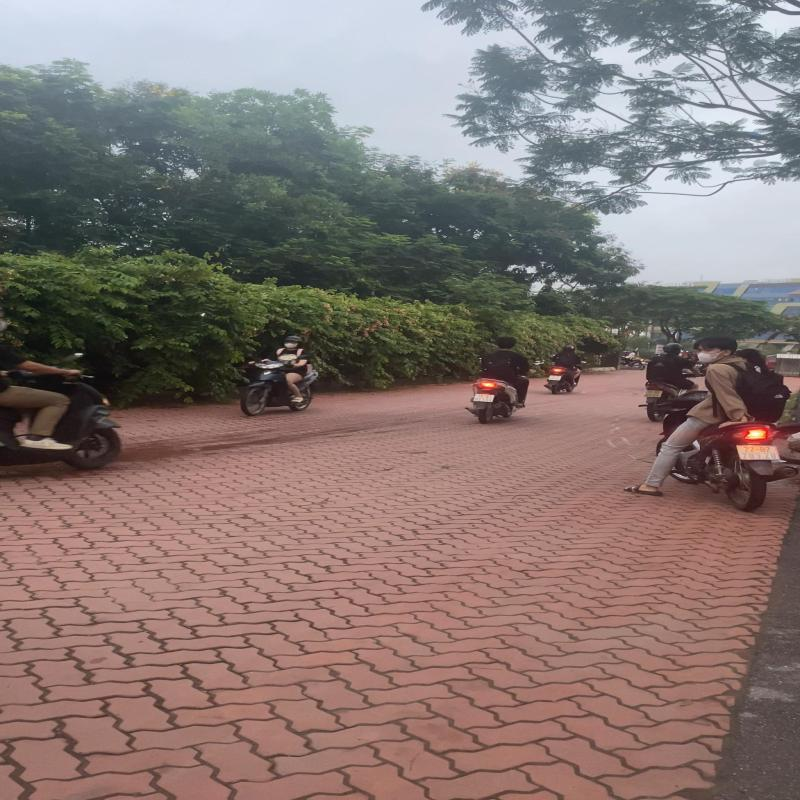licenseplate: (736, 446, 782, 460), (473, 392, 495, 403)
motorcyclist: (622, 334, 800, 514), (464, 336, 546, 424)
nohelmet: (693, 336, 738, 363), (496, 336, 515, 348)
